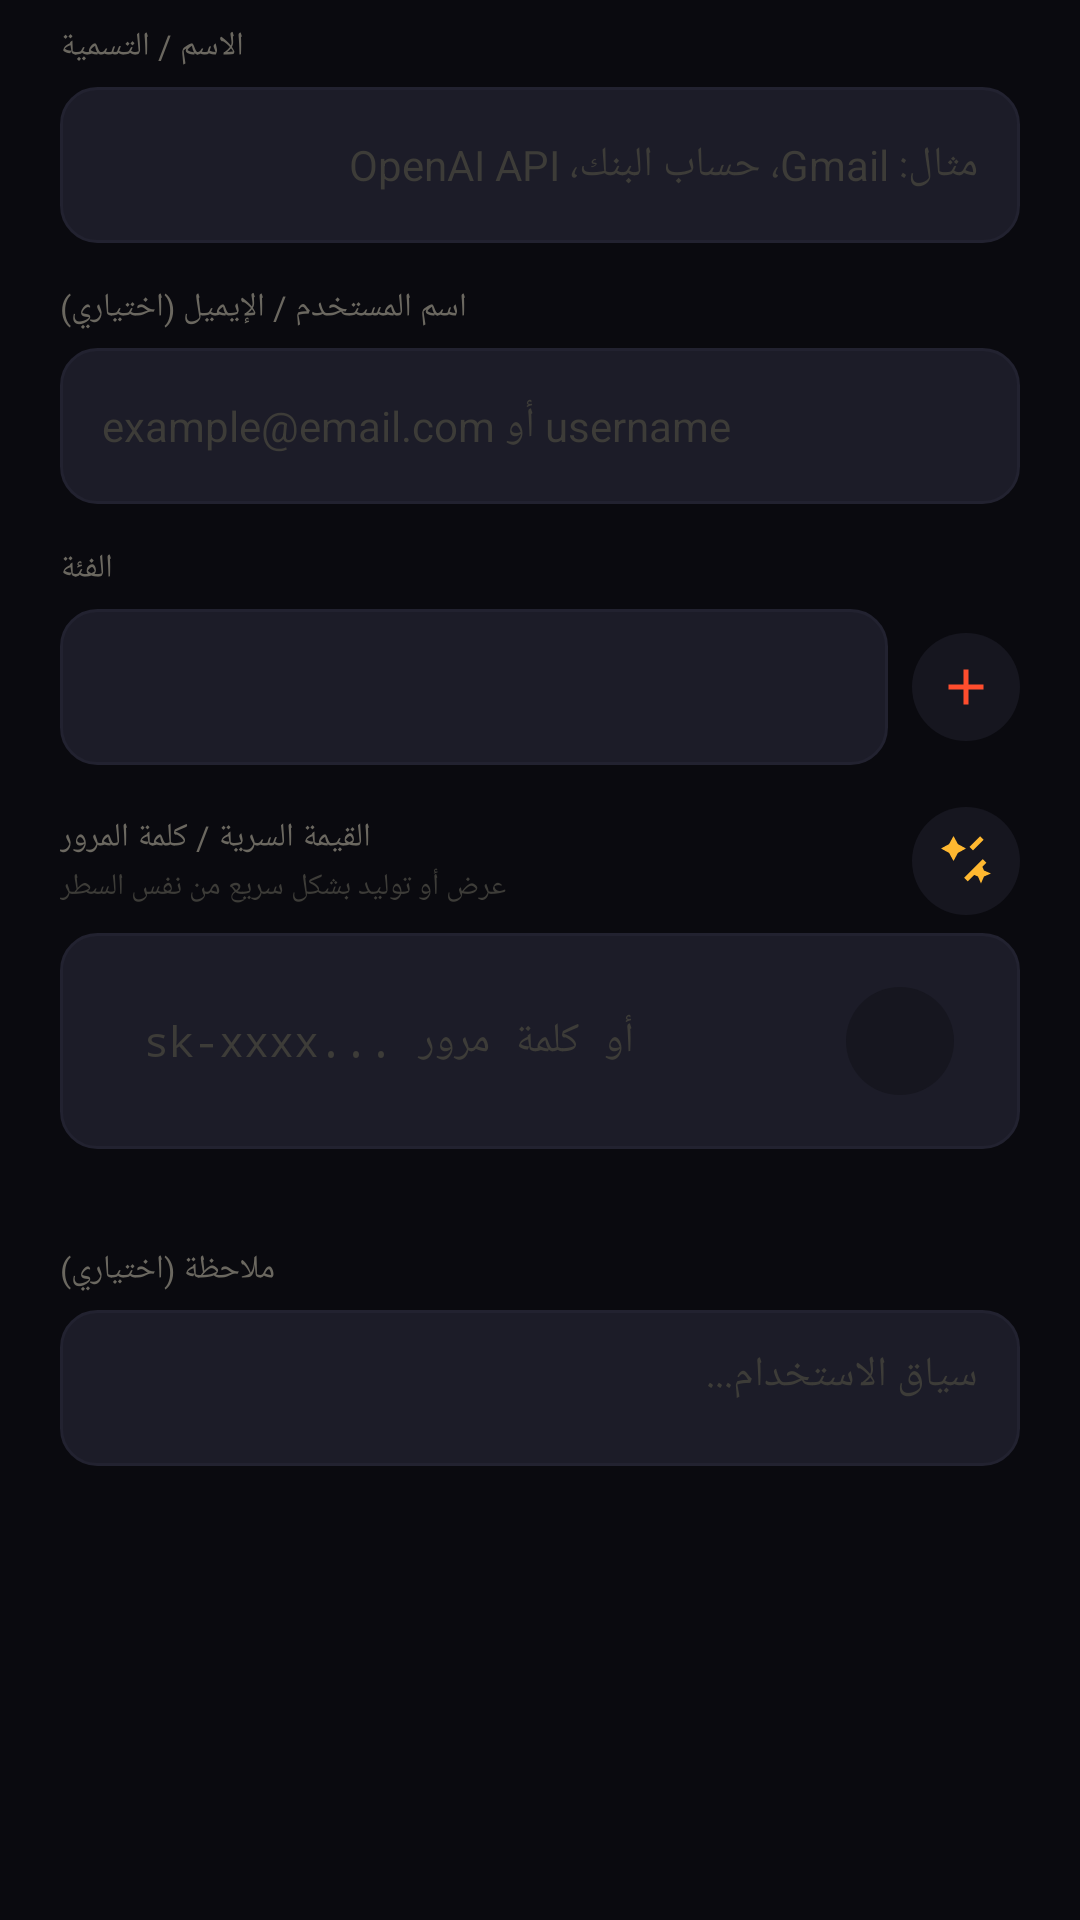

Where to tap for icons on this 1080×1920 app screen, as (x,y):
إضافة فئة جديدة: (966,687)
توليد كلمة مرور قوية: (966,861)
